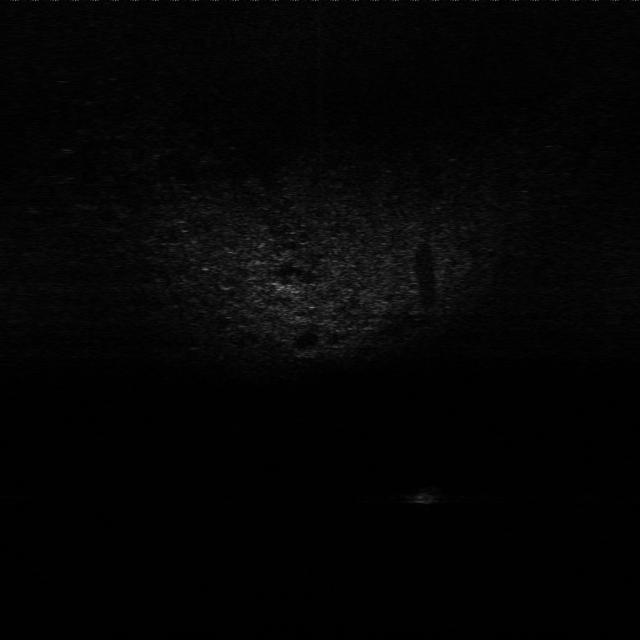cylinder: (406, 484, 440, 509)
